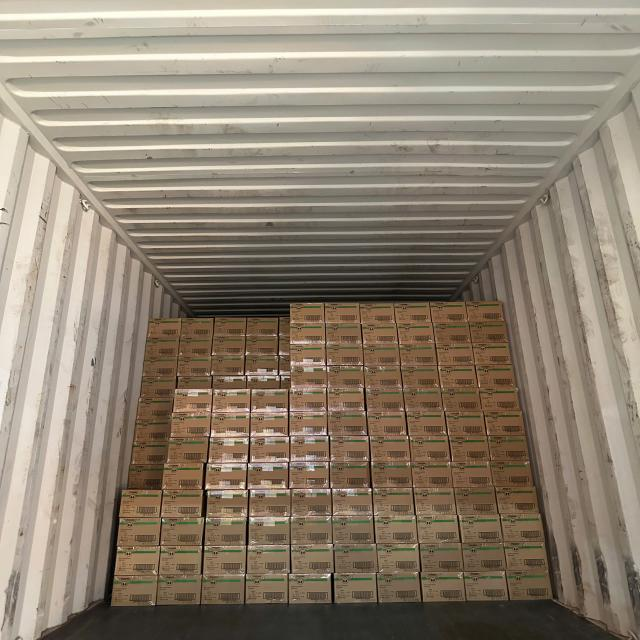Carton: (110, 574, 158, 607), (505, 570, 554, 601), (113, 546, 161, 576), (377, 572, 422, 604), (460, 542, 508, 572), (419, 542, 465, 573), (155, 575, 202, 605), (288, 573, 332, 605), (333, 572, 377, 604), (163, 522, 207, 554), (463, 572, 509, 602), (245, 573, 289, 604), (375, 543, 422, 572), (500, 513, 547, 542), (421, 572, 466, 602), (118, 488, 163, 518), (504, 541, 550, 570), (250, 489, 294, 519), (202, 577, 246, 607), (334, 543, 378, 573), (416, 515, 461, 544), (248, 549, 293, 578), (161, 488, 204, 518), (458, 514, 502, 543), (495, 487, 539, 516), (374, 515, 418, 544), (202, 549, 246, 578), (117, 517, 161, 546), (160, 517, 204, 546), (158, 546, 202, 575), (205, 518, 247, 548), (248, 518, 290, 548), (455, 486, 497, 516), (206, 489, 249, 518), (291, 544, 334, 573), (450, 460, 494, 488), (333, 489, 374, 519), (415, 488, 456, 518), (293, 489, 334, 519), (374, 489, 416, 518), (489, 460, 534, 487), (332, 516, 375, 544), (205, 462, 248, 490), (161, 462, 204, 490), (291, 516, 333, 544), (247, 462, 289, 490), (370, 461, 413, 488), (208, 436, 249, 464), (329, 435, 371, 462), (411, 461, 454, 487), (166, 437, 209, 463), (483, 410, 526, 436), (448, 435, 491, 461), (487, 434, 530, 460), (329, 461, 370, 488), (288, 462, 330, 488), (440, 387, 483, 412), (444, 411, 487, 436), (289, 436, 330, 462), (478, 387, 522, 411), (368, 436, 410, 461), (170, 412, 212, 437), (249, 437, 290, 462), (407, 411, 448, 436), (475, 364, 517, 388), (402, 388, 444, 412), (328, 411, 368, 436), (367, 411, 407, 436), (210, 412, 250, 437), (408, 436, 449, 460), (250, 412, 289, 437), (436, 365, 478, 388), (288, 387, 328, 411), (173, 388, 213, 412), (212, 388, 252, 412), (400, 365, 441, 388), (289, 411, 328, 435), (366, 388, 405, 412), (365, 367, 402, 392), (326, 388, 366, 411), (436, 343, 476, 366), (472, 342, 512, 365), (327, 364, 365, 388), (362, 343, 401, 366), (251, 388, 288, 412), (429, 301, 469, 323), (398, 344, 438, 366), (465, 300, 505, 322), (432, 322, 472, 344), (468, 321, 508, 343), (326, 343, 364, 366), (289, 366, 328, 388), (392, 302, 432, 323), (325, 322, 363, 344), (396, 322, 434, 344), (289, 344, 327, 366), (361, 323, 398, 345), (289, 302, 325, 324), (325, 302, 360, 324), (360, 303, 396, 324), (290, 323, 326, 344)
